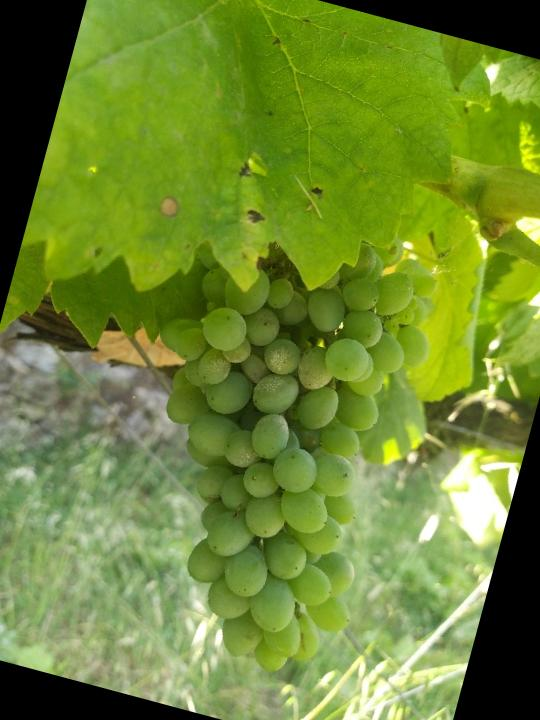grape: (82, 186, 459, 692)
